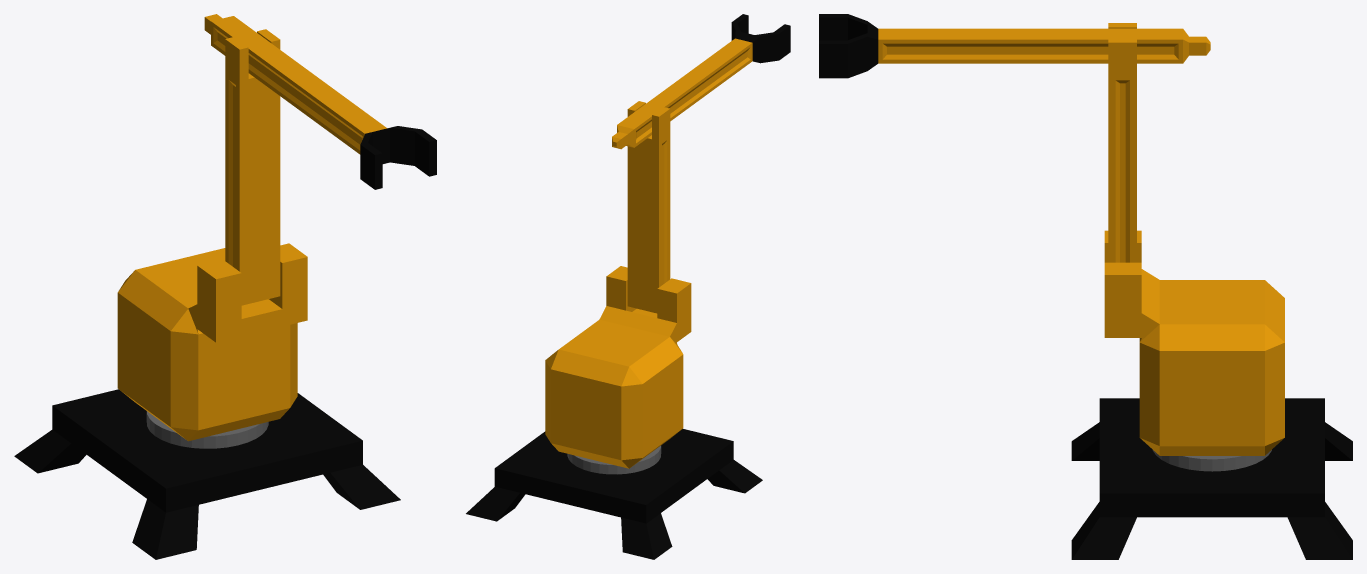
Rendered from Manipulator.fbx.
3 renders of one model, left to right at view 1: azimuth 30°, elevation 25°; view 2: azimuth 150°, elevation 25°; view 3: azimuth 270°, elevation 25°, orthographic. The views are drawn at different scales.
Visible parts, largest first — view 1: 1, 3, 5, 6, 4, 7, 2; view 2: 3, 1, 5, 6, 4, 7, 2; view 3: 3, 1, 6, 5, 7, 4, 2.
Part boxes in pixels (bbox=[...]): 1: bbox=[14, 389, 400, 559]; 3: bbox=[117, 248, 297, 441]; 5: bbox=[225, 29, 280, 305]; 6: bbox=[204, 14, 386, 154]; 4: bbox=[197, 243, 307, 342]; 7: bbox=[360, 126, 436, 189]; 2: bbox=[146, 411, 268, 448]; 3: bbox=[545, 306, 683, 468]; 1: bbox=[466, 429, 762, 559]; 5: bbox=[627, 101, 670, 313]; 6: bbox=[612, 38, 752, 149]; 4: bbox=[606, 266, 691, 341]; 7: bbox=[731, 14, 790, 63]; 2: bbox=[567, 445, 661, 474]; 3: bbox=[1139, 269, 1284, 455]; 1: bbox=[1071, 398, 1352, 559]; 6: bbox=[878, 28, 1210, 63]; 5: bbox=[1108, 23, 1136, 262]; 7: bbox=[819, 14, 878, 78]; 4: bbox=[1104, 230, 1141, 337]; 2: bbox=[1152, 450, 1271, 471].
Bounding box in the file's own units: 249 × 461 × 473.
